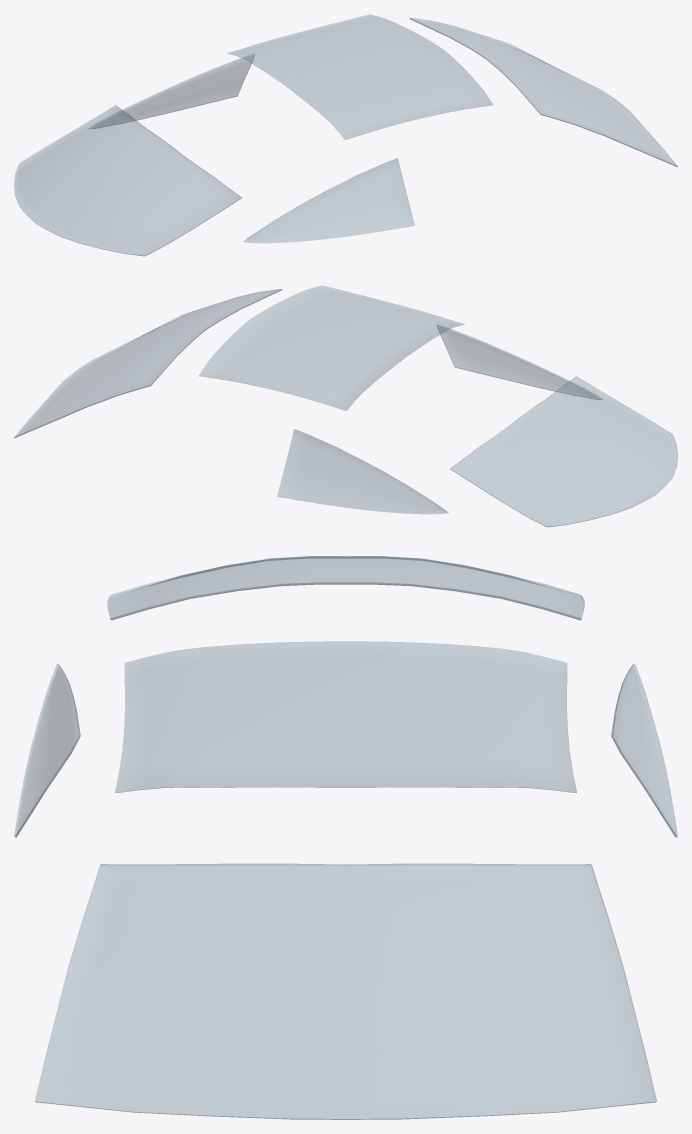
The picture shows the model from 3 angles, top to bottom: view 1: azimuth 30°, elevation 25°; view 2: azimuth 150°, elevation 25°; view 3: azimuth 270°, elevation 25°; orthographic projection. The views are drawn at different scales.
Parts seen in each view (by area): view 1: SM_Glass_MercedesCCC_Int1; view 2: SM_Glass_MercedesCCC_Int1; view 3: SM_Glass_MercedesCCC_Int1.
Boxes of the visible parts, <box> form: SM_Glass_MercedesCCC_Int1: <box>14,14,677,256</box>; SM_Glass_MercedesCCC_Int1: <box>14,285,677,527</box>; SM_Glass_MercedesCCC_Int1: <box>14,556,677,1119</box>.
Size of the model in its own units: 2.8 by 0.4549 by 1.49.
